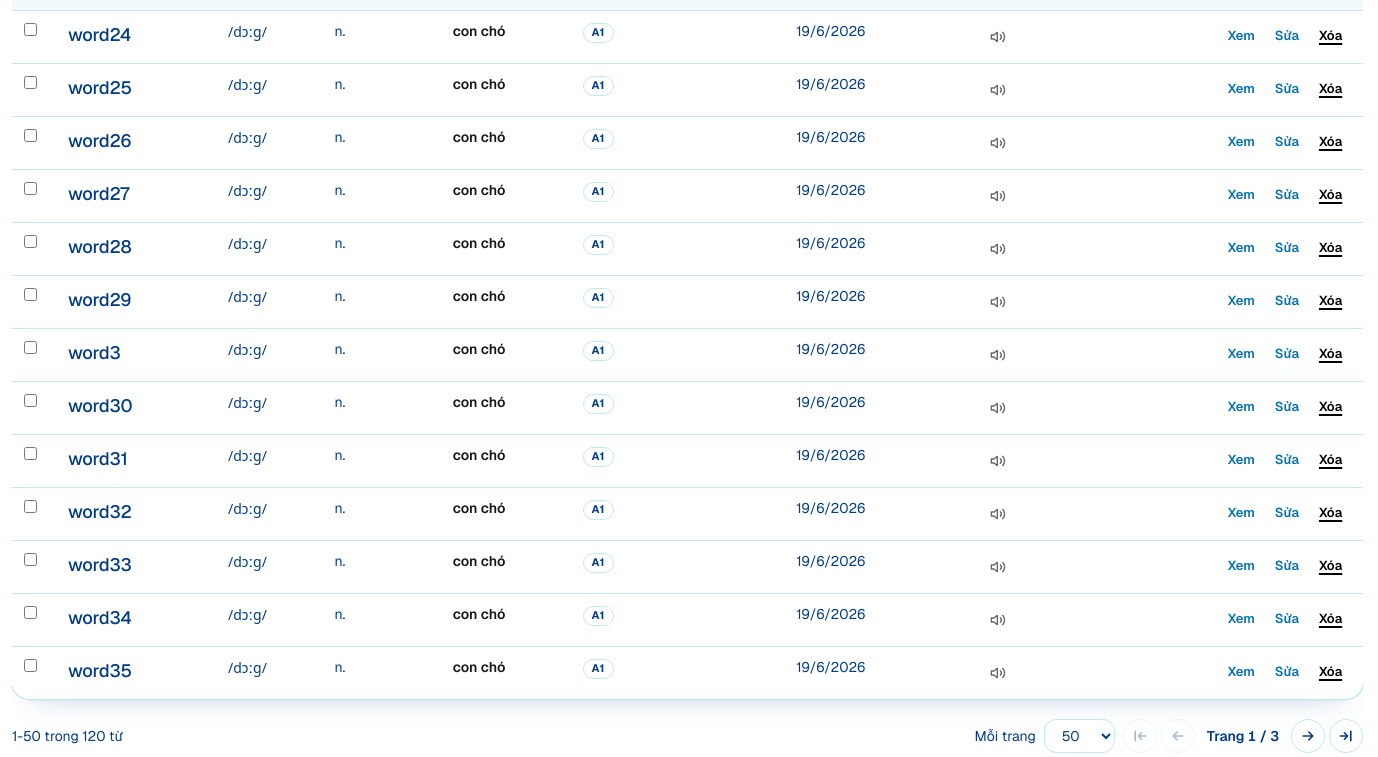
Test: WordlistClient › shows one page of a long list, and walks to the others
This screenshot has width=1378, height=757.
(page scrolled)
Expected: the text "1-50 trong 120 từ" is shown, [12, 726, 123, 747]
Expected: the text "Trang 1 / 3" is shown, [1207, 727, 1279, 745]
What coordinates should you click on to do the following:
click the button named "Trang sau"
I would click on:
 (1308, 736)
Its box is [1291, 719, 1325, 753].
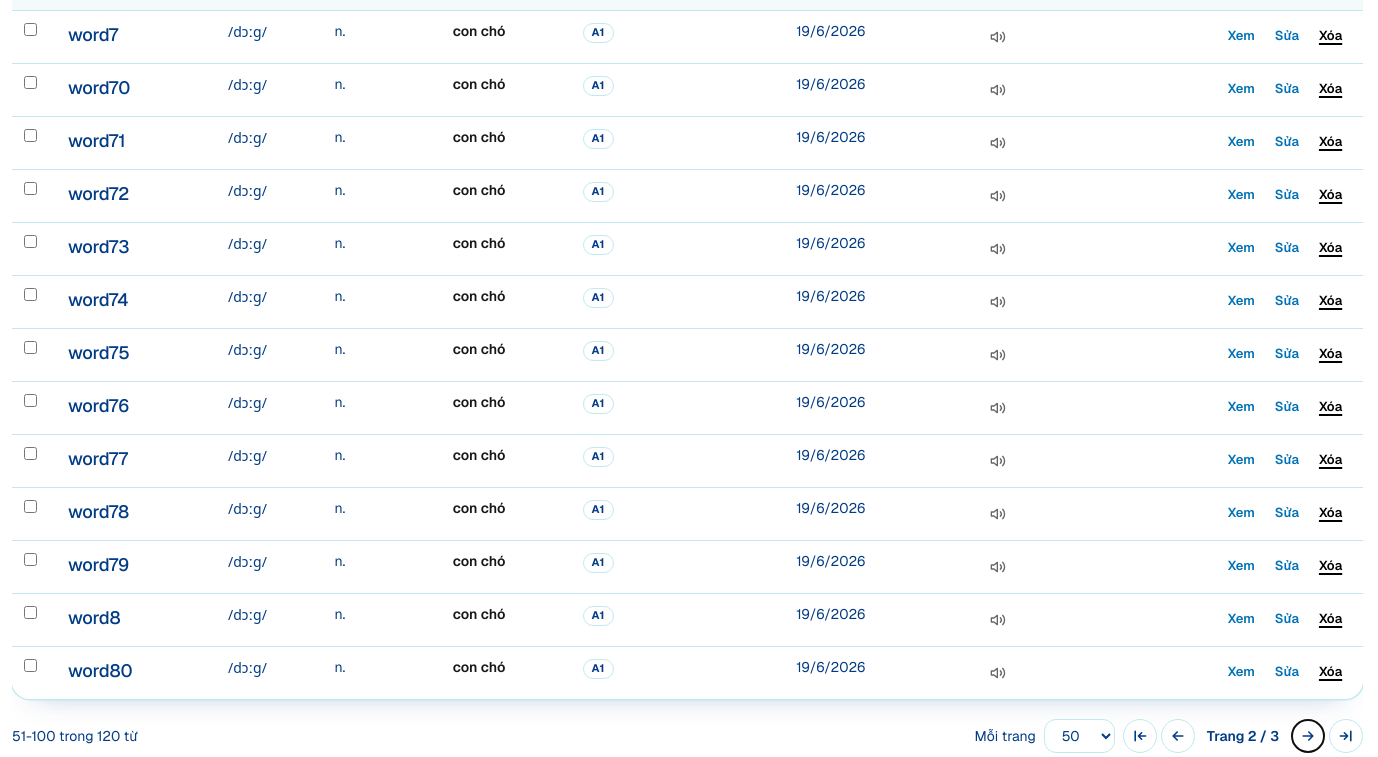
What coordinates should you click on to do the following:
click the button named "Trang cuối"
I would click on:
 (1346, 736)
Its box is [1329, 719, 1363, 753].
(page scrolled)
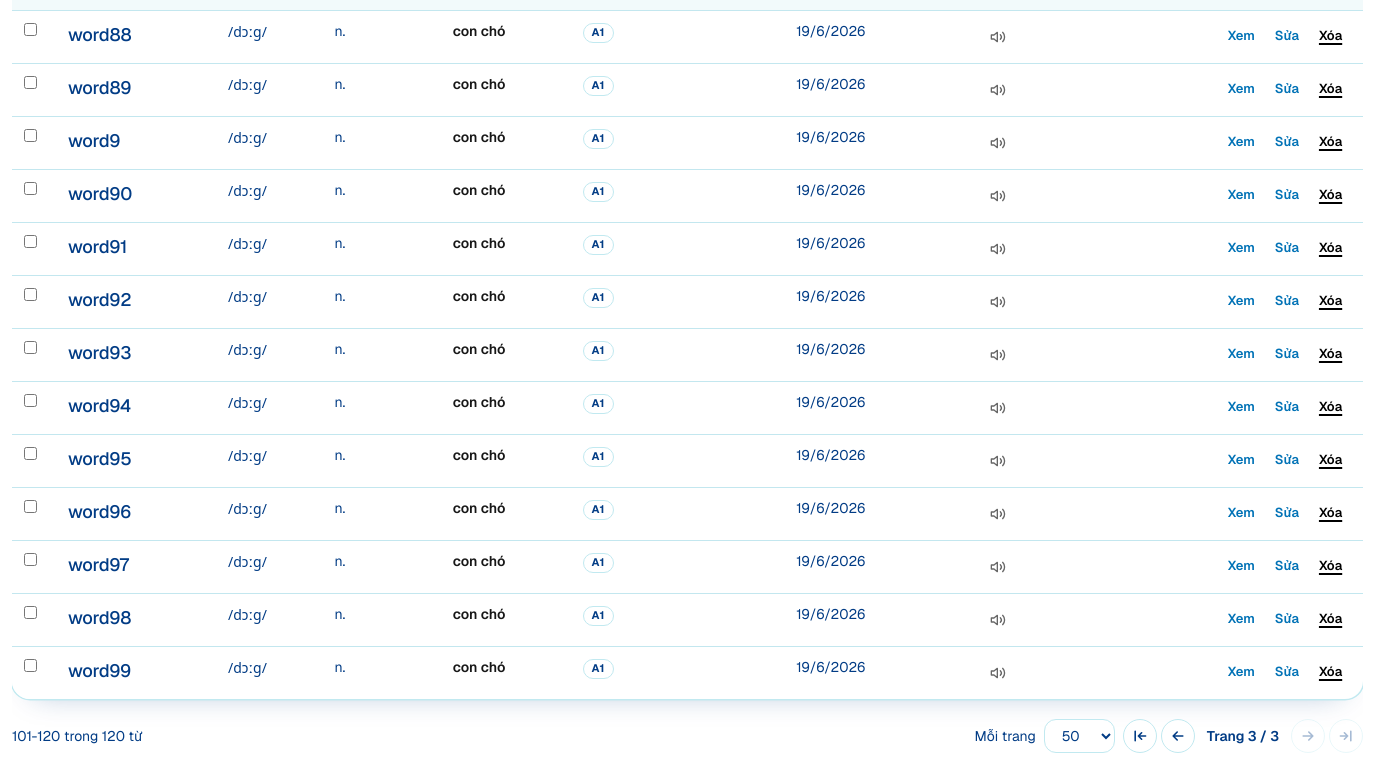
Expected: the text "101-120 trong 120 từ" is shown, [12, 726, 142, 747]
Expected: the button named "Trang sau" is disabled, [1291, 719, 1325, 753]
